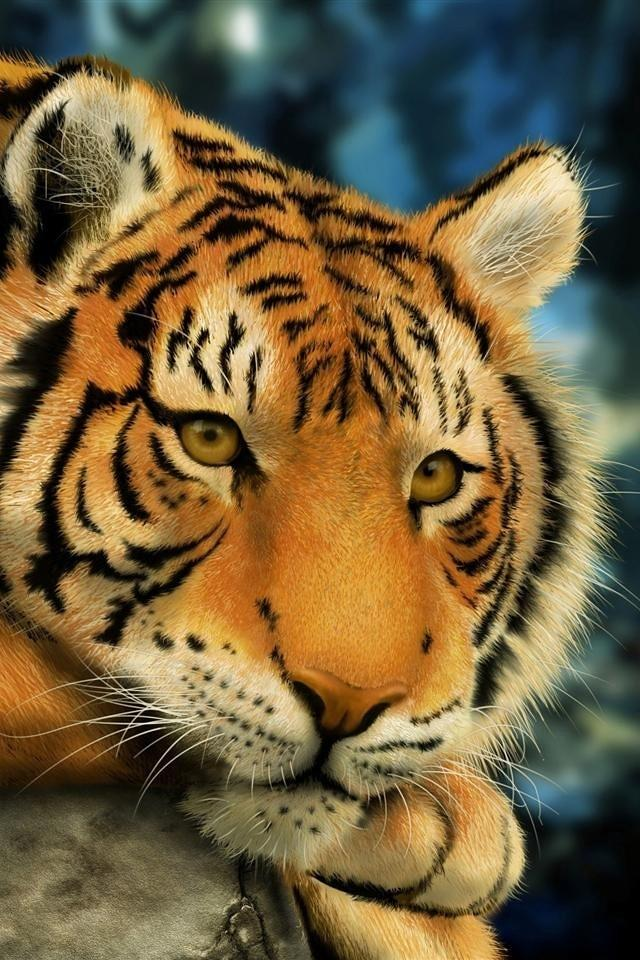tiger: (2, 48, 638, 958)
